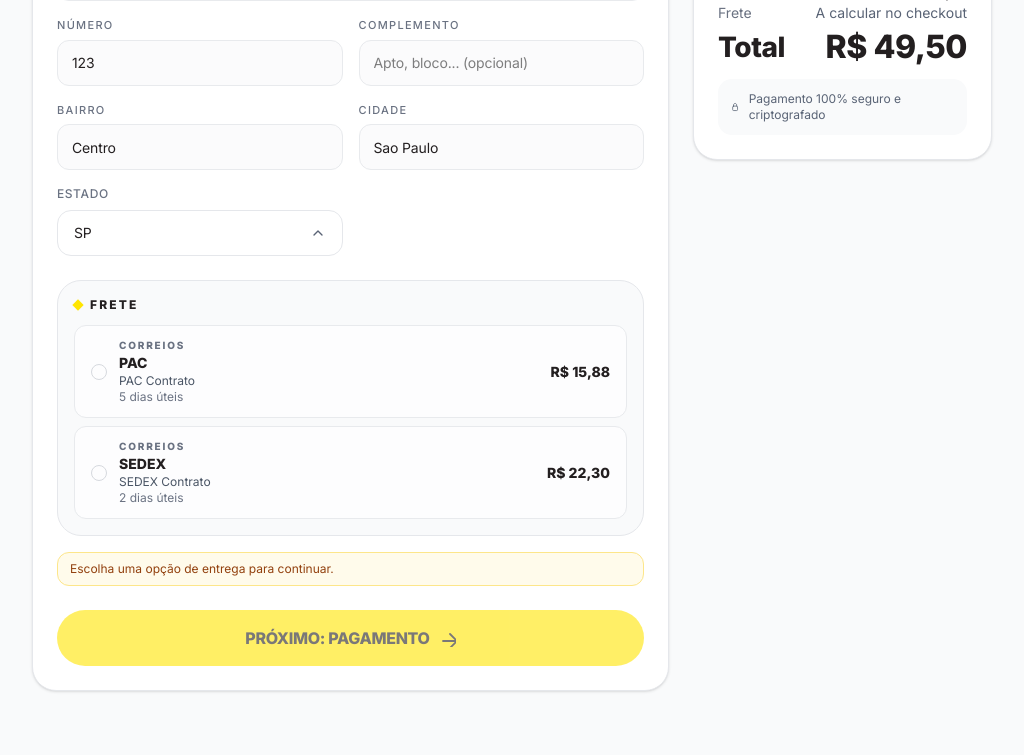
CheckoutAddressStepContent › requires selecting PAC or SEDEX and updates the order summary with the selected freight
This screenshot has width=1024, height=755.
(page scrolled)
Expected: the text "PAC Contrato" is shown, x1=119 y1=373 x2=195 y2=389
Expected: the text "SEDEX Contrato" is shown, x1=119 y1=474 x2=211 y2=490
Click the radio button labelled "Correios PAC PAC Contrato 5 dias úteis R$ 15,88". click: (152, 345)
box: x1=74 y1=325 x2=627 y2=418
(page scrolled)
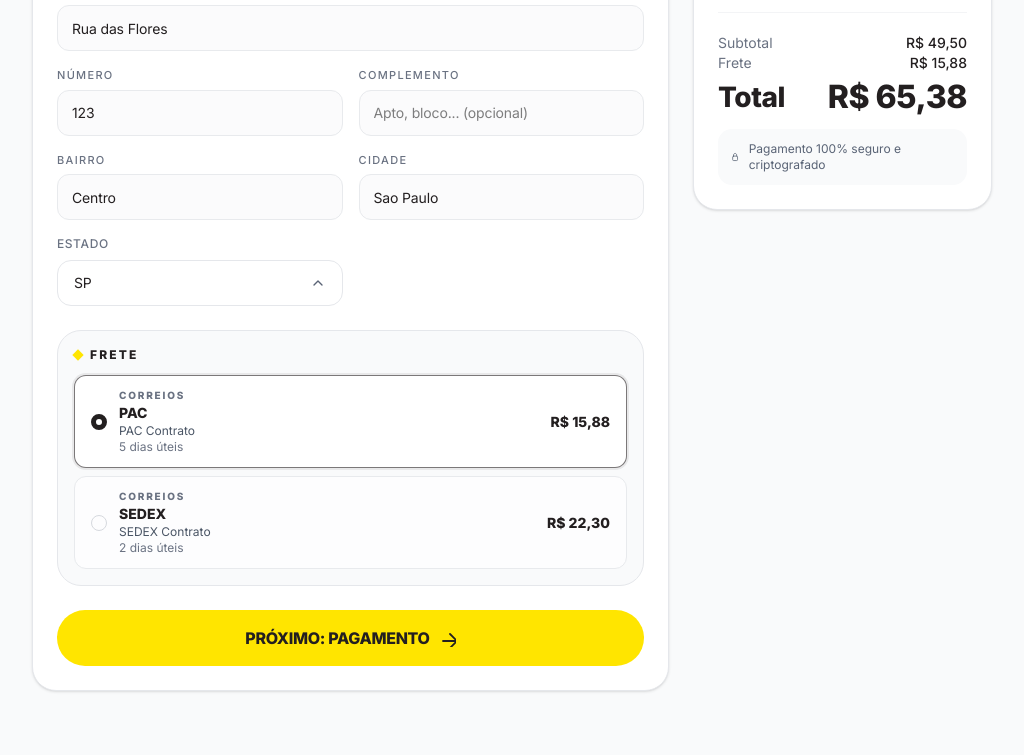
Expected: the text "R$ 15,88" below "Cidade" is shown, x1=551 y1=412 x2=610 y2=430
Expected: the button "Próximo: Pagamento" is enabled, x1=57 y1=610 x2=644 y2=666
Expected: the text "R$ 65,38" is shown, x1=828 y1=81 x2=967 y2=113
Click the radio button labelled "Correios SEDEX SEDEX Contrato 2 dias úteis R$ 22,30". click: (152, 496)
box: x1=74 y1=476 x2=627 y2=569
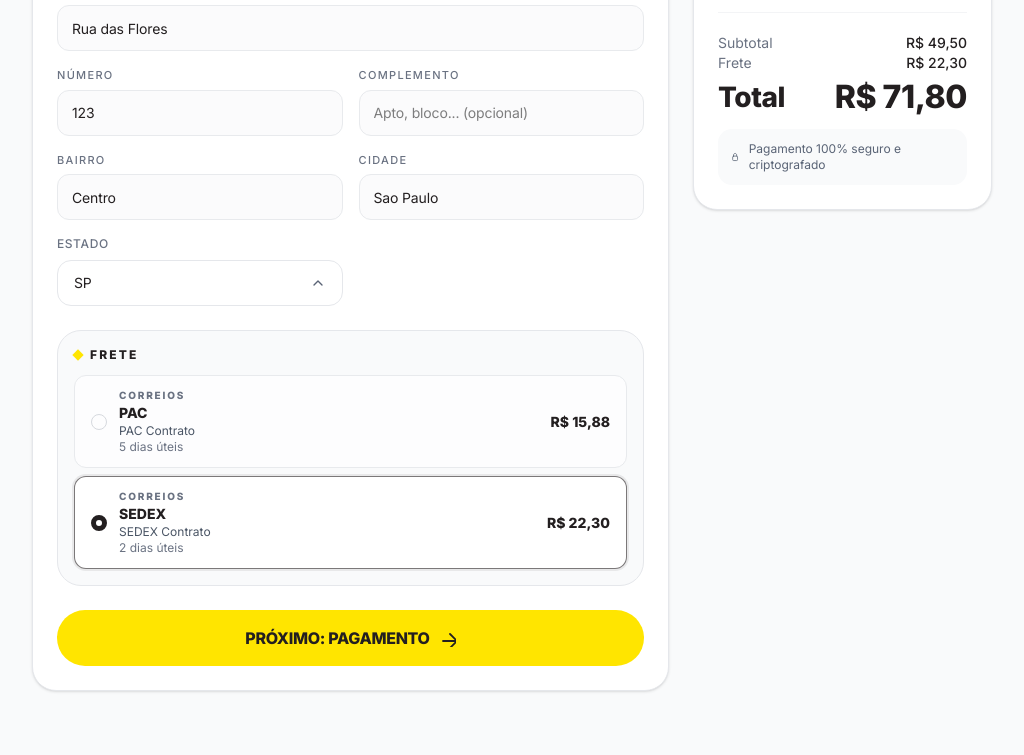
Expected: the radio button labelled "Correios SEDEX SEDEX Contrato 2 dias úteis R$ 22,30" is checked, x1=74 y1=476 x2=627 y2=569
Expected: the radio button labelled "Correios PAC PAC Contrato 5 dias úteis R$ 15,88" is not checked, x1=74 y1=375 x2=627 y2=468
Expected: the text "R$ 71,80" is shown, x1=835 y1=81 x2=967 y2=113
